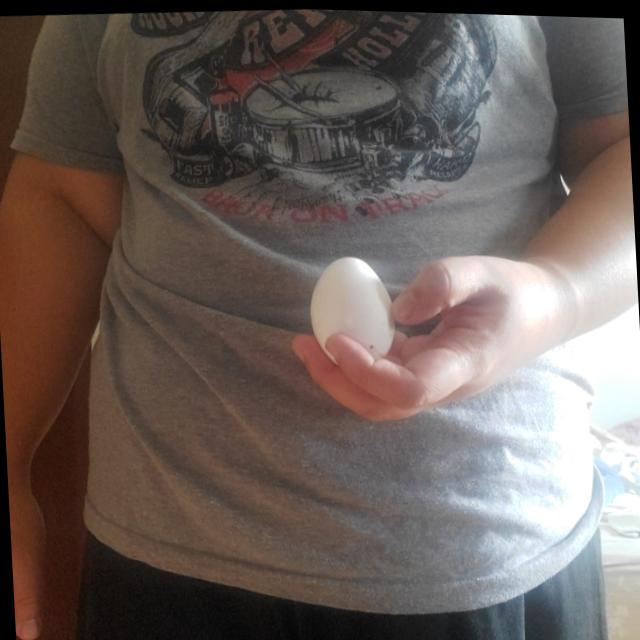egg: (309, 248, 397, 371)
